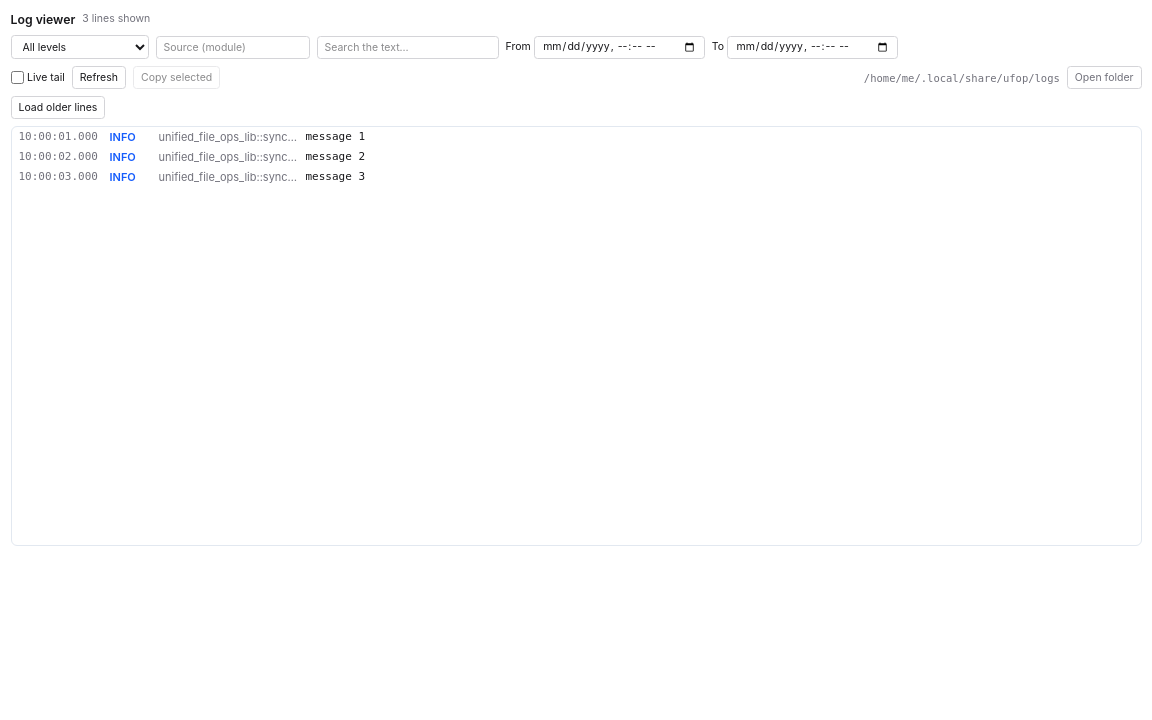
LogViewer › loads older lines above the ones shown
Click the button "Load older lines" at [58, 108], box [10,96,105,119]
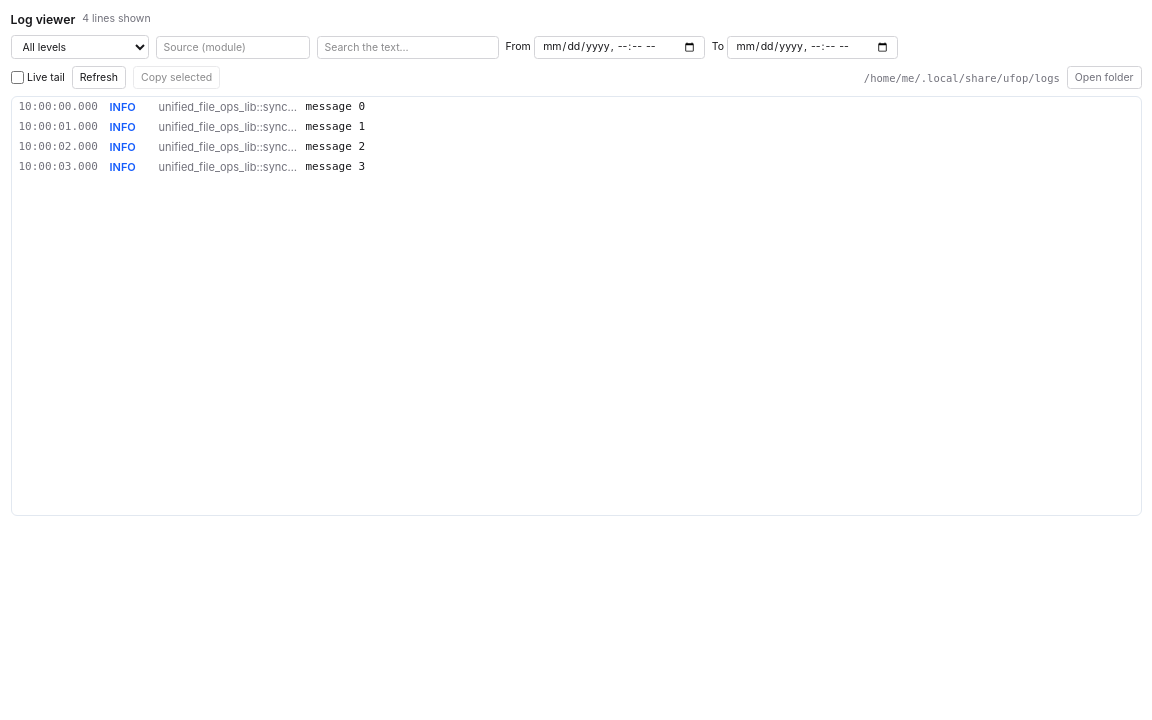
Expected: the text "4 lines shown" is shown, [82,12,151,26]
Expected: the 1st option shows "message 0", [18,100,365,114]
Expected: the button "Load older lines" is gone
